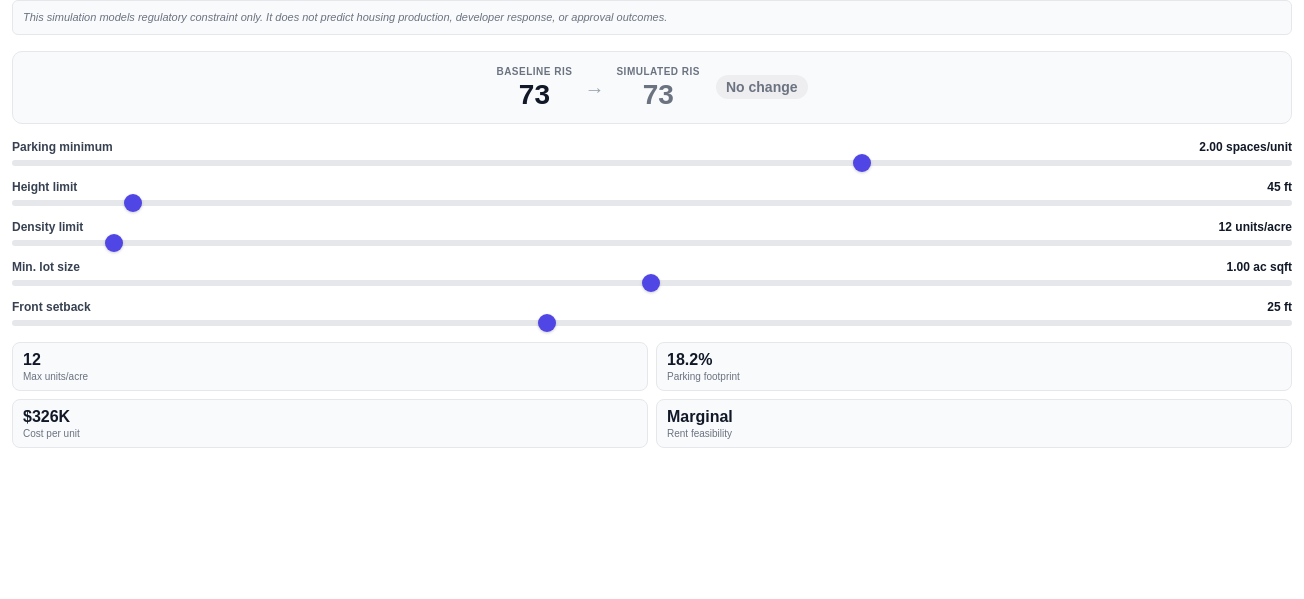
Test: WhatIfPanel › prepends zone label to the narrative when zoneLabel prop is provided and a slider changes
This screenshot has width=1304, height=599.
// Move a slider to trigger the narrative update
Set the slider named "Parking minimum slider" to "0" at (20, 162), box [12,160,1292,166]
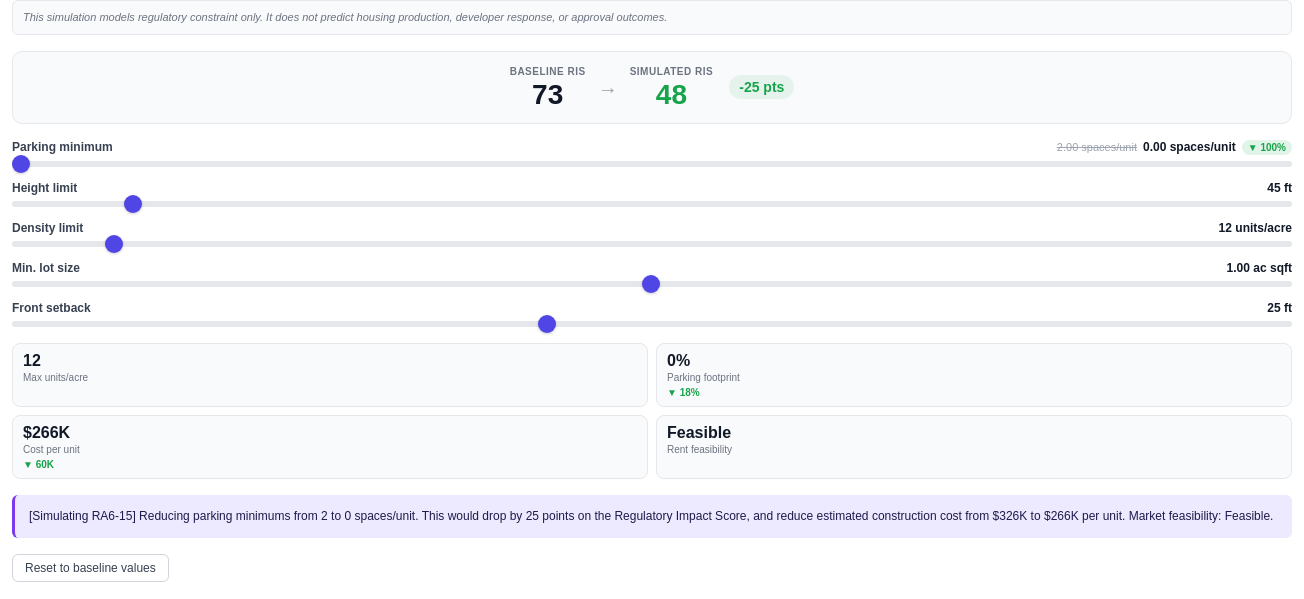
Expected: the text "[Simulating RA6-15]" is shown, [29,508,1273,522]
